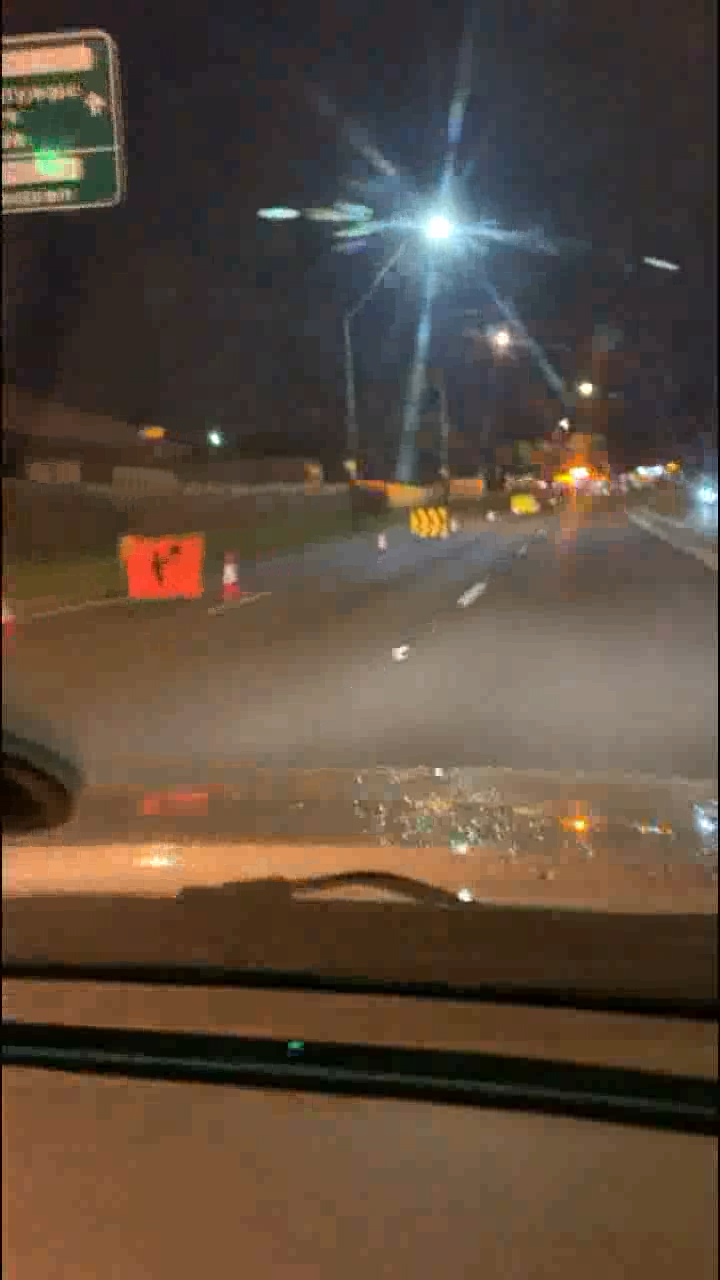road works sign board: (118, 544, 204, 605), (414, 507, 456, 534)
